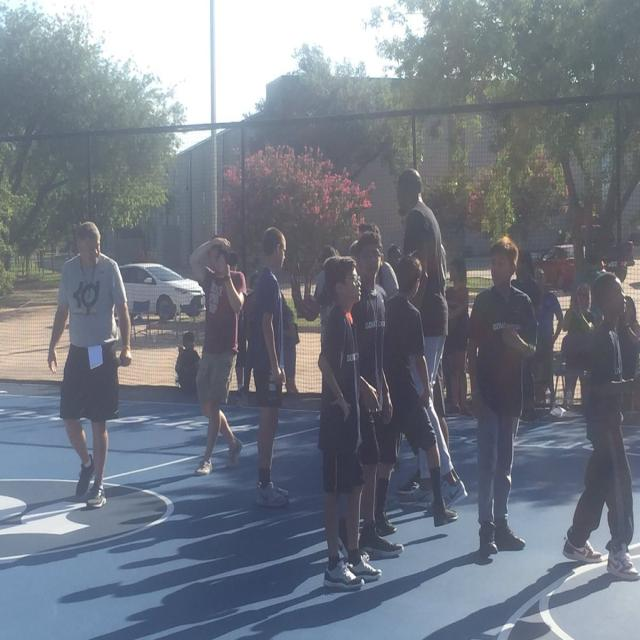body: (46, 218, 133, 510), (396, 168, 468, 513), (561, 268, 640, 582), (373, 252, 460, 535), (315, 253, 382, 595), (470, 233, 539, 558), (350, 229, 404, 562), (186, 232, 248, 478), (244, 226, 292, 512), (511, 247, 543, 425), (560, 281, 600, 415), (529, 267, 564, 408), (443, 251, 470, 412), (300, 245, 340, 342), (356, 221, 400, 303), (240, 262, 262, 402), (615, 293, 640, 416), (279, 296, 301, 406), (174, 331, 201, 389), (382, 242, 404, 274)
